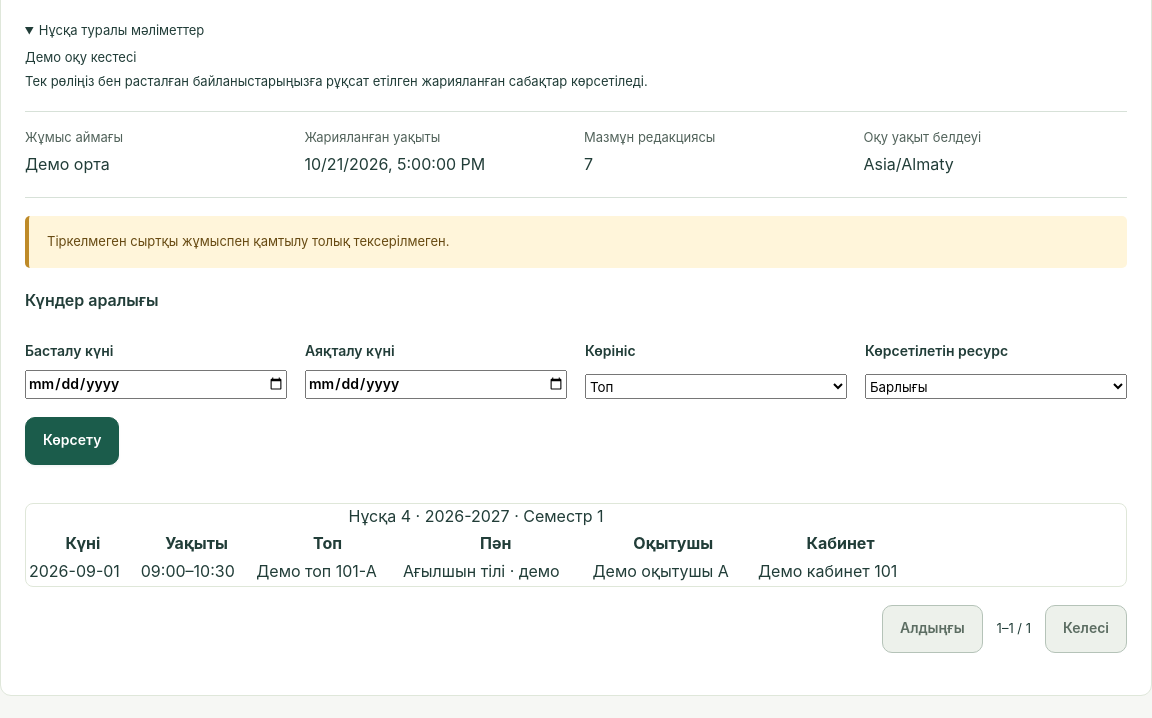
it: clears publications and requests login after session expiration
The width and height of the screenshot is (1152, 718).
(page scrolled)
expect the table is shown: met, box [26,504,926,586]
Step 1. Click the button "Көрсету" → (72, 441), box [25,417,119,465]
(page scrolled)
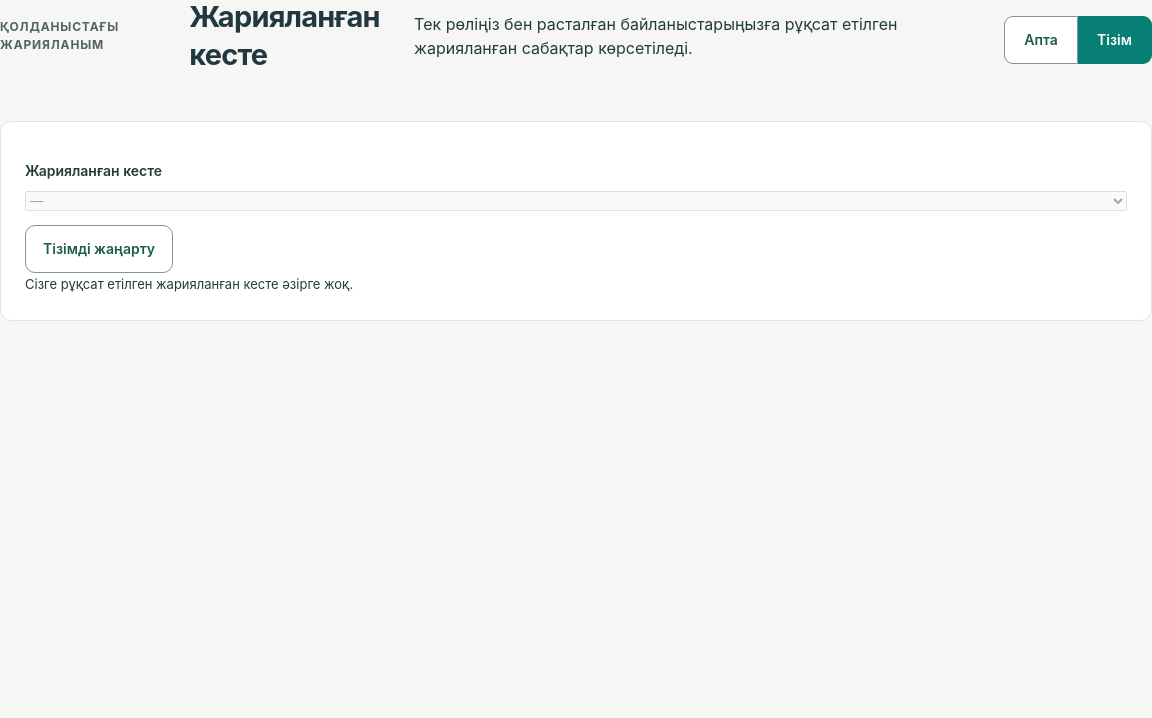
expect the table is gone: met
